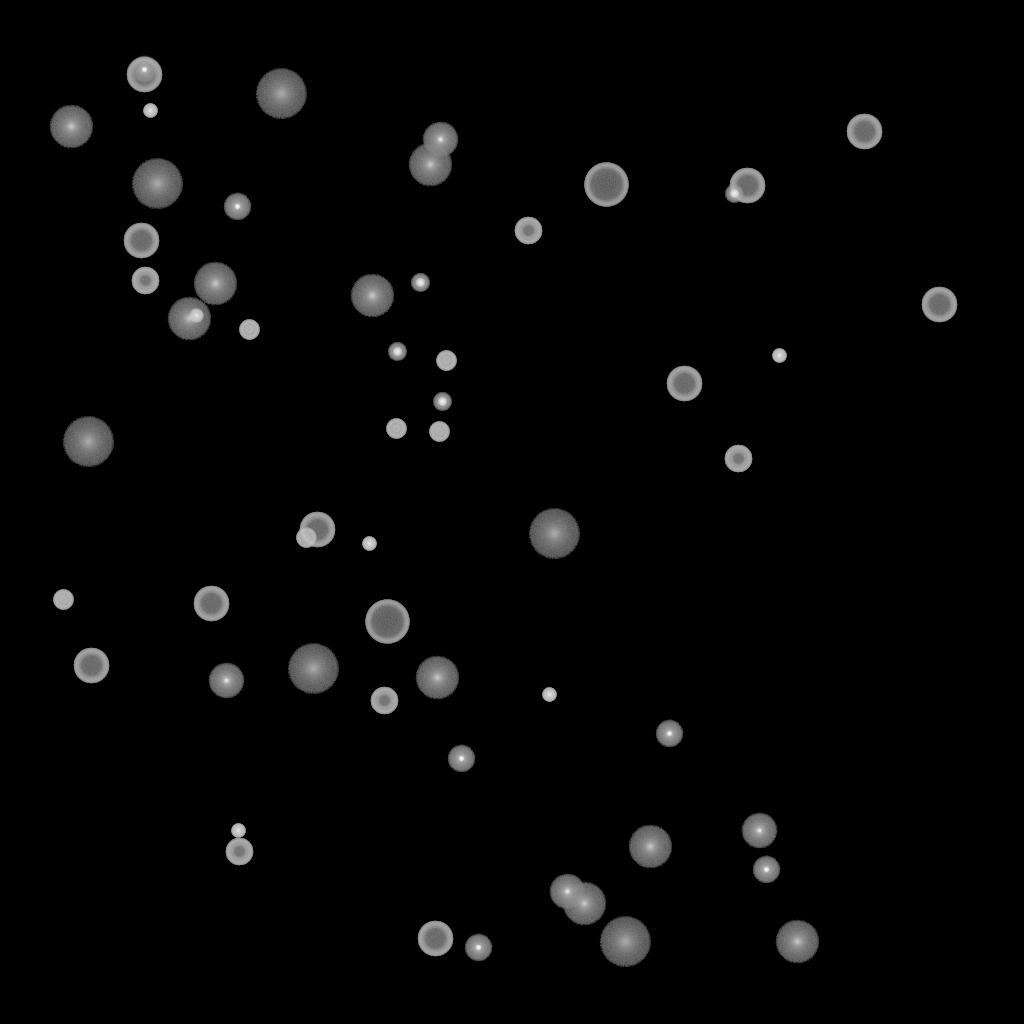depth:-10: (752, 856, 780, 884), (223, 193, 251, 221), (447, 745, 475, 773), (655, 720, 683, 748), (130, 56, 158, 84), (464, 934, 492, 962)
depth:-20: (433, 393, 451, 411), (388, 343, 406, 361), (725, 185, 743, 203), (411, 274, 429, 292)
depth:-30: (231, 824, 245, 838), (143, 104, 157, 118), (542, 688, 556, 702), (189, 309, 203, 323), (362, 537, 376, 551), (772, 349, 786, 363)
depth:-40: (296, 528, 316, 548), (239, 320, 259, 340), (386, 419, 406, 439), (53, 590, 73, 610), (429, 422, 449, 442), (436, 351, 456, 371)
depth:-50: (724, 445, 752, 473), (225, 838, 253, 866), (370, 687, 398, 715), (131, 267, 159, 295), (514, 217, 542, 245)
depth:-60: (921, 287, 957, 323), (729, 168, 765, 204), (126, 57, 162, 93), (193, 586, 229, 622), (666, 366, 702, 402), (73, 648, 109, 684), (846, 114, 882, 150), (123, 223, 159, 259), (299, 512, 335, 548), (417, 921, 453, 957)
depth:-70: (365, 600, 409, 644), (584, 163, 628, 207)
depth:0: (549, 874, 585, 910), (208, 663, 244, 699), (422, 122, 458, 158), (741, 813, 777, 849)
depth:10: (408, 143, 452, 187), (775, 920, 819, 964), (49, 105, 93, 149), (193, 262, 237, 306), (628, 825, 672, 869), (415, 656, 459, 700), (562, 882, 606, 926), (167, 297, 211, 341), (350, 274, 394, 318)
depth:20: (528, 509, 580, 559), (599, 917, 651, 967), (255, 69, 307, 119), (62, 417, 114, 467), (131, 159, 183, 209), (287, 644, 339, 694)
